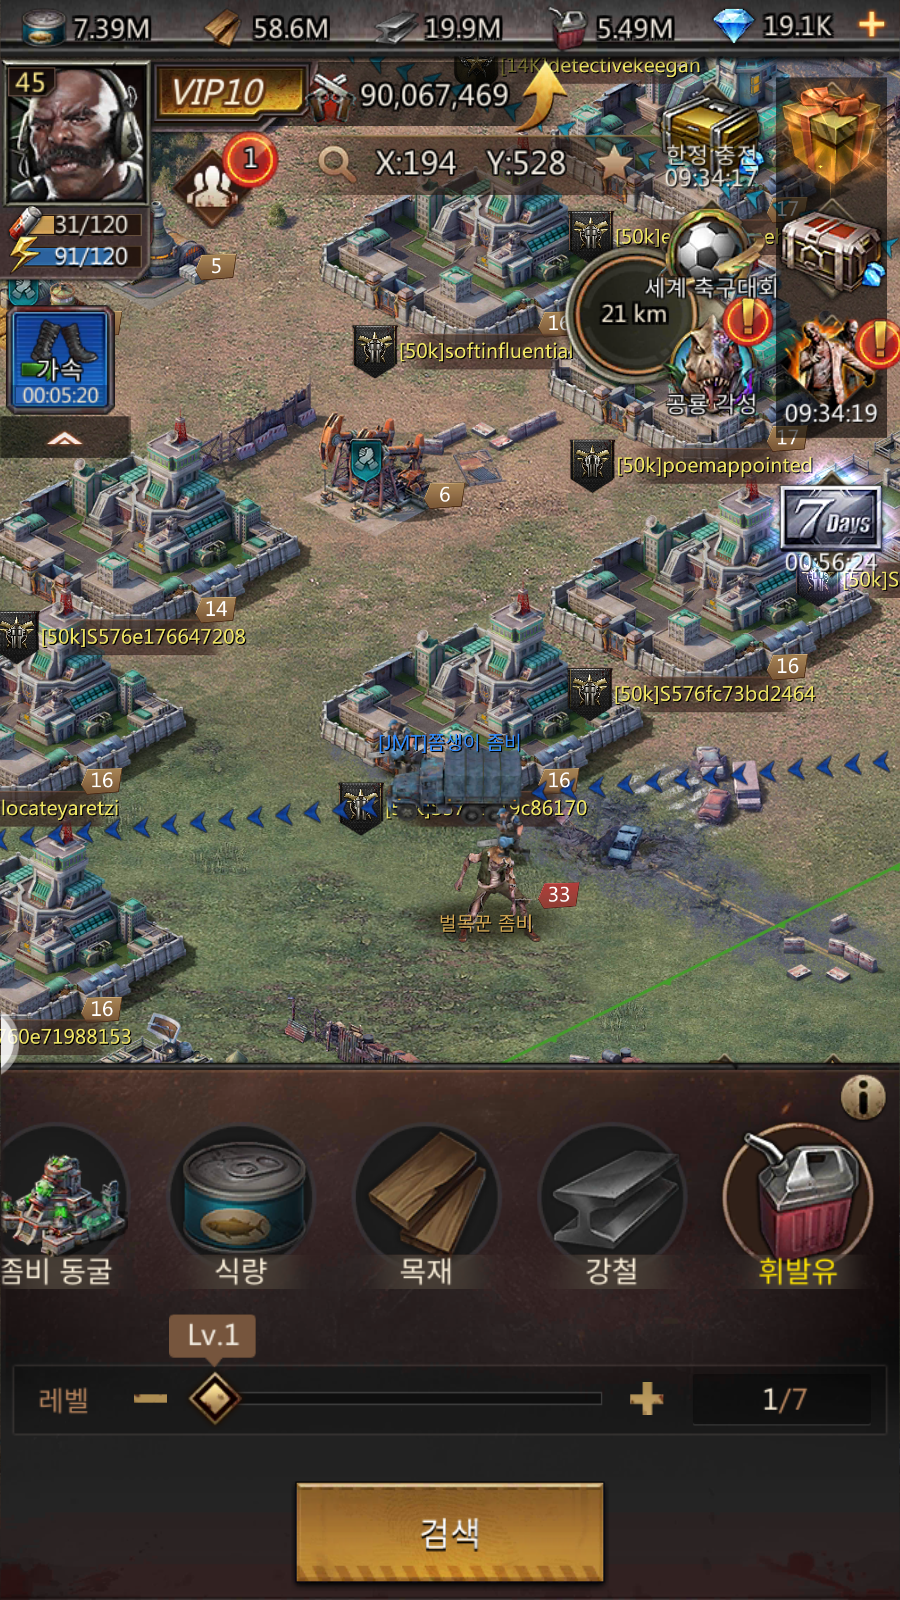rss_food_in_panel: (170, 1122, 315, 1290)
rss_gas_in_panel: (722, 1117, 880, 1295)
rss_lv1: (164, 1312, 261, 1359)
rss_minus_in_panel: (122, 1373, 176, 1424)
rss_plus_in_panel: (620, 1369, 671, 1425)
rss_search_in_panel: (292, 1483, 609, 1578)
rss_steel_in_panel: (534, 1120, 692, 1295)
rss_wood_in_panel: (351, 1122, 500, 1293)
troops_cnt_1: (156, 127, 288, 241)
